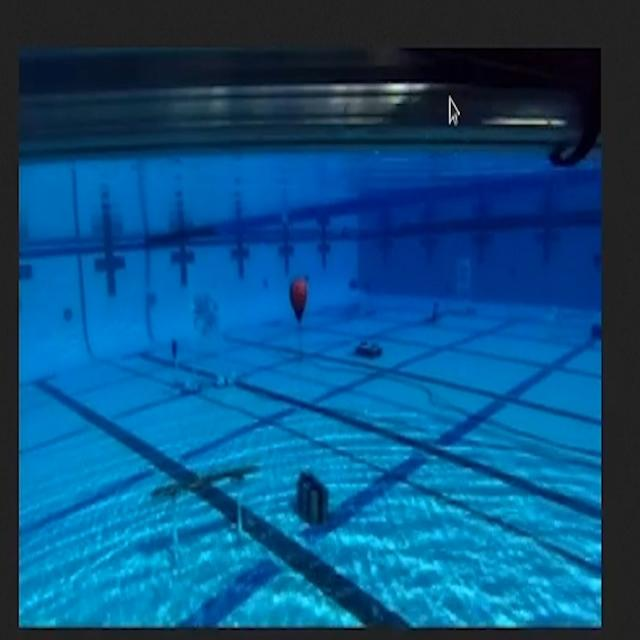Buoy: (280, 267, 319, 334)
Path: (142, 453, 261, 555)
